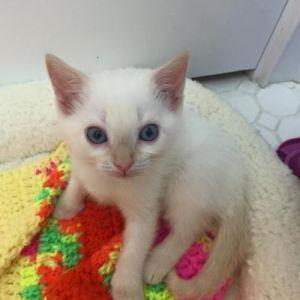siamese: (46, 37, 194, 187)
